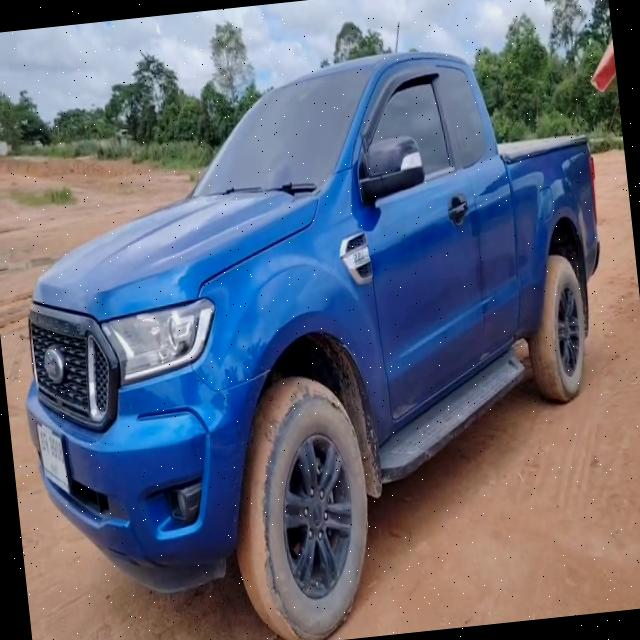Digit: (48, 434, 65, 465)
Licenseplate: (35, 421, 71, 494)
Provincename: (50, 459, 58, 477)
Thaichar: (39, 429, 49, 454)
